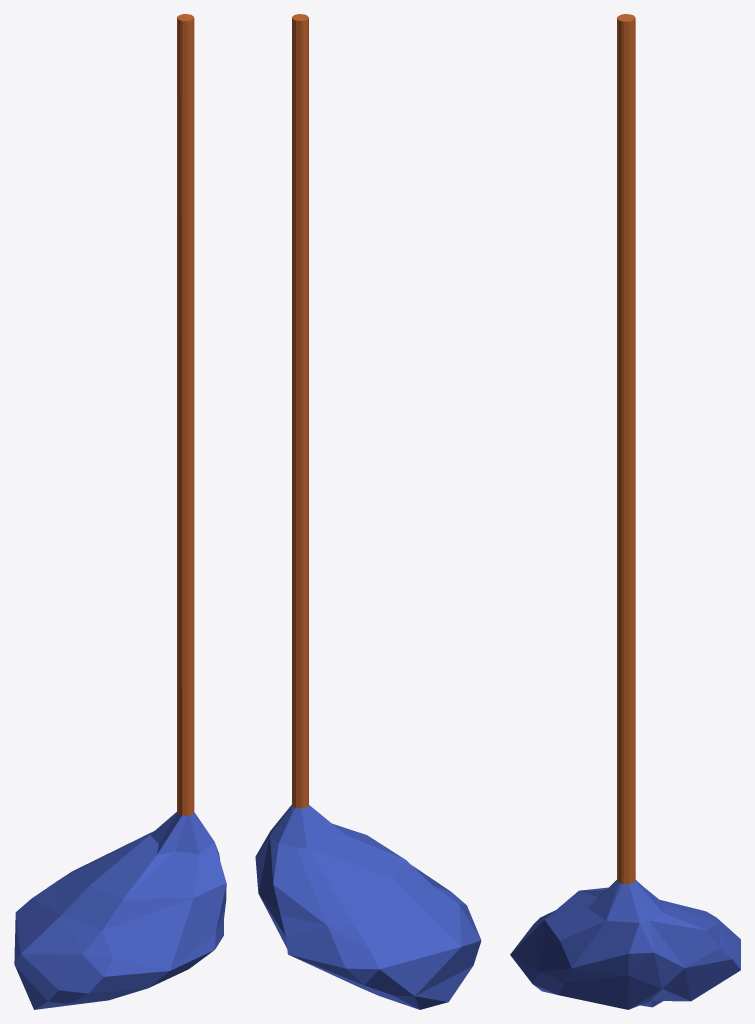
Rendered from mop.fbx.
The picture shows the model from 3 angles, left to right: view 1: azimuth 30°, elevation 25°; view 2: azimuth 150°, elevation 25°; view 3: azimuth 270°, elevation 25°; orthographic projection. The views are drawn at different scales.
Parts seen in each view (by area): view 1: mop; view 2: mop; view 3: mop.
Boxes of the visible parts, left/top/right/bottom form: mop: left=14, top=14, right=226, bottom=1009; mop: left=255, top=14, right=481, bottom=1009; mop: left=510, top=14, right=740, bottom=1009.
Size of the model in its own units: 35.43 by 163 by 32.89.
